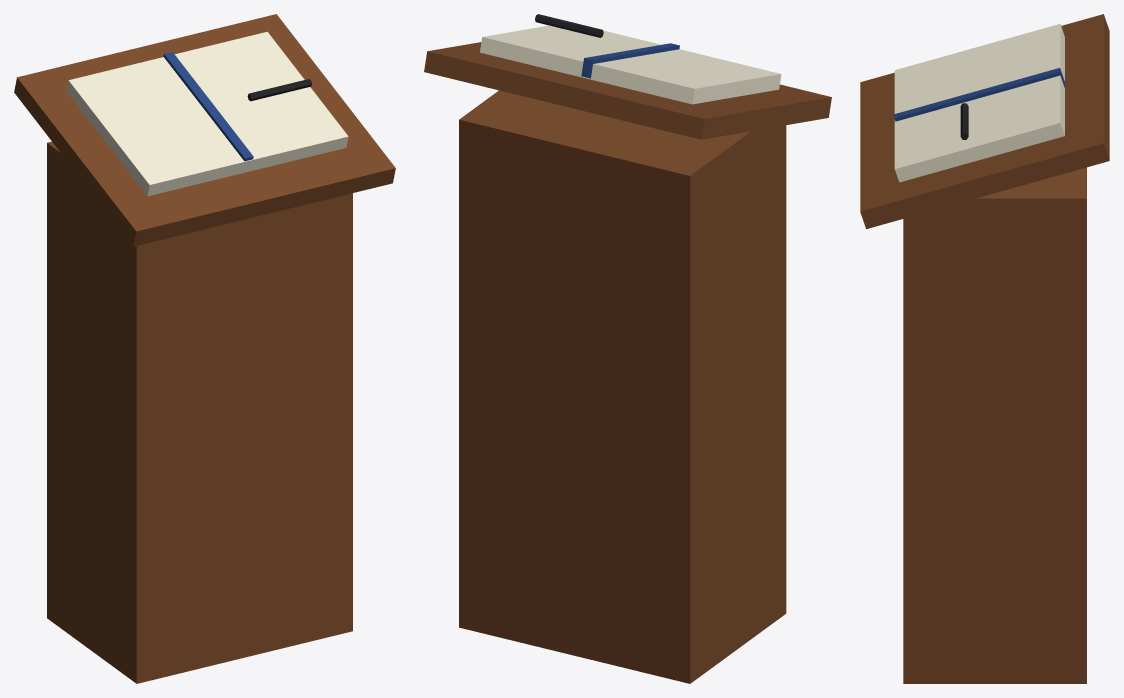
The model's file is sign_out_lectern.glb.
3 views of the same model, side by side, from view 1: azimuth 30°, elevation 25°; view 2: azimuth 150°, elevation 25°; view 3: azimuth 270°, elevation 25° (orthographic). The views are drawn at different scales.
Parts seen in each view (by area): view 1: stand_lectern_wood, book_evidence_label, book_book_spine; view 2: stand_lectern_wood, book_evidence_label, book_book_spine, pen_vcr_black; view 3: stand_lectern_wood, book_evidence_label, book_book_spine.
Part boxes in pixels (left/top/right/bottom): stand_lectern_wood: left=14, top=14, right=395, bottom=683; book_evidence_label: left=66, top=31, right=348, bottom=196; book_book_spine: left=163, top=51, right=253, bottom=161; stand_lectern_wood: left=424, top=42, right=831, bottom=683; book_evidence_label: left=480, top=25, right=781, bottom=104; book_book_spine: left=581, top=43, right=679, bottom=78; pen_vcr_black: left=535, top=14, right=603, bottom=37; stand_lectern_wood: left=860, top=14, right=1109, bottom=683; book_evidence_label: left=894, top=23, right=1064, bottom=182; book_book_spine: left=894, top=68, right=1065, bottom=121.
Size of the model in its own units: 0.6 by 1.21 by 0.4895.
